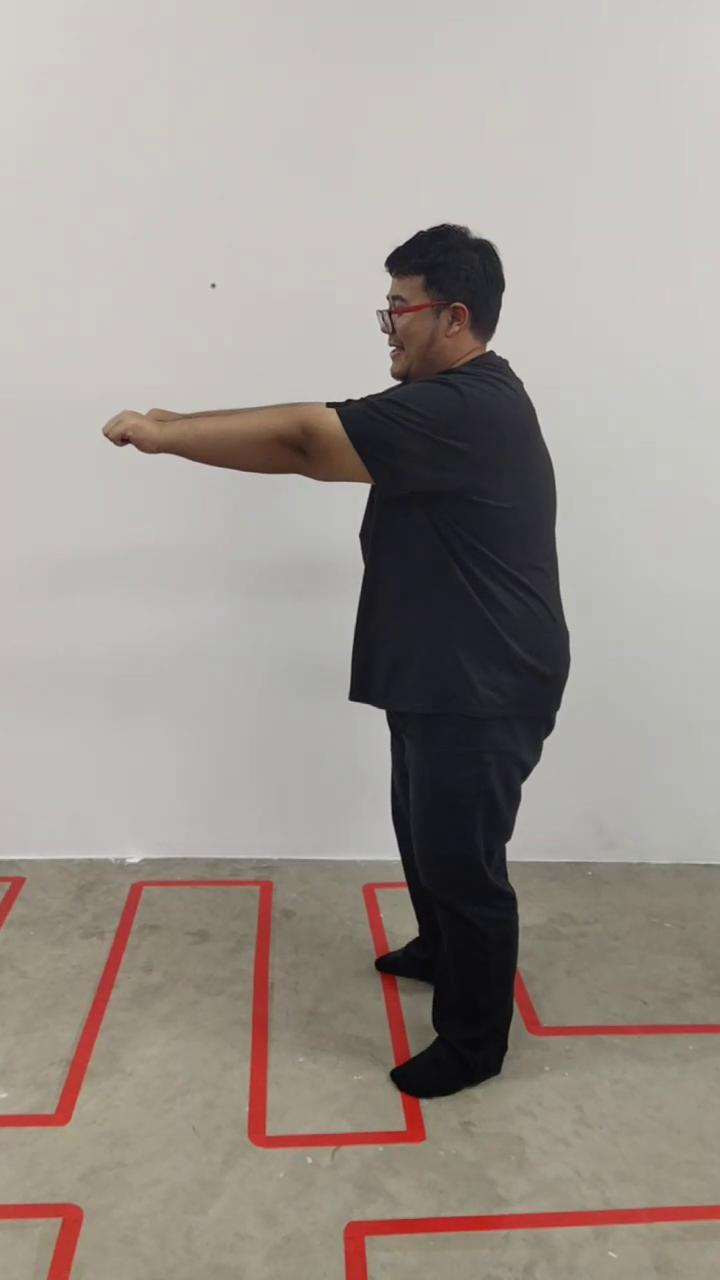squat up: (103, 221, 571, 1101)
